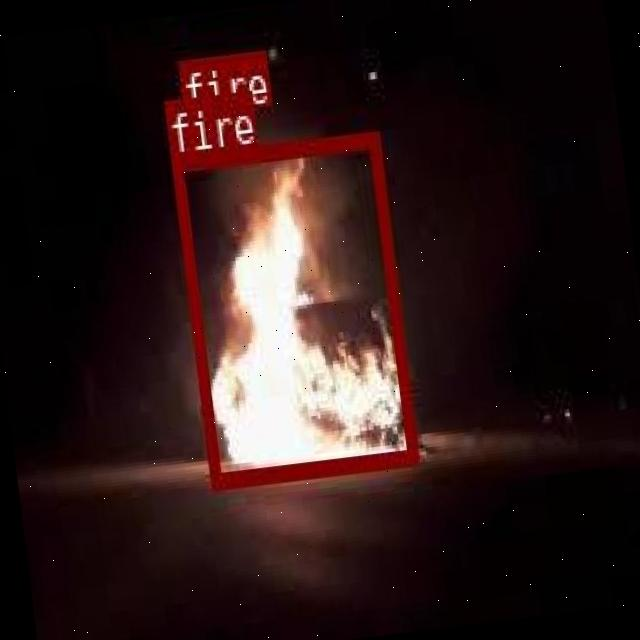fire: (168, 129, 416, 486), (177, 51, 253, 126)
